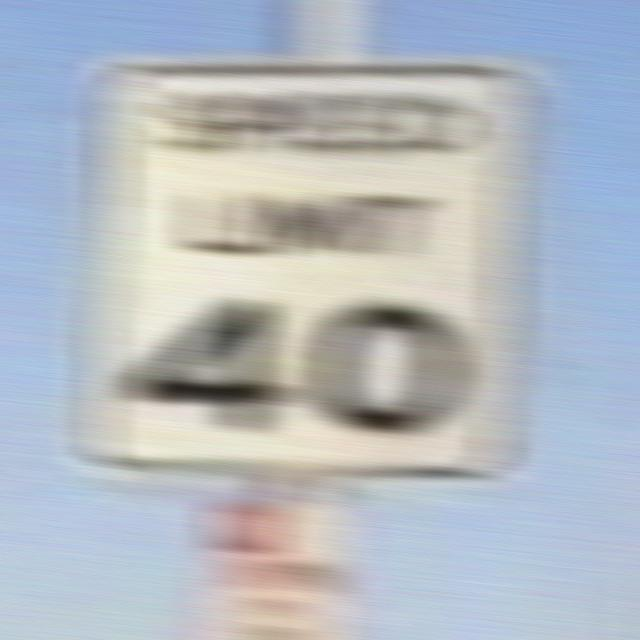speedLimit40: (93, 73, 520, 464)
